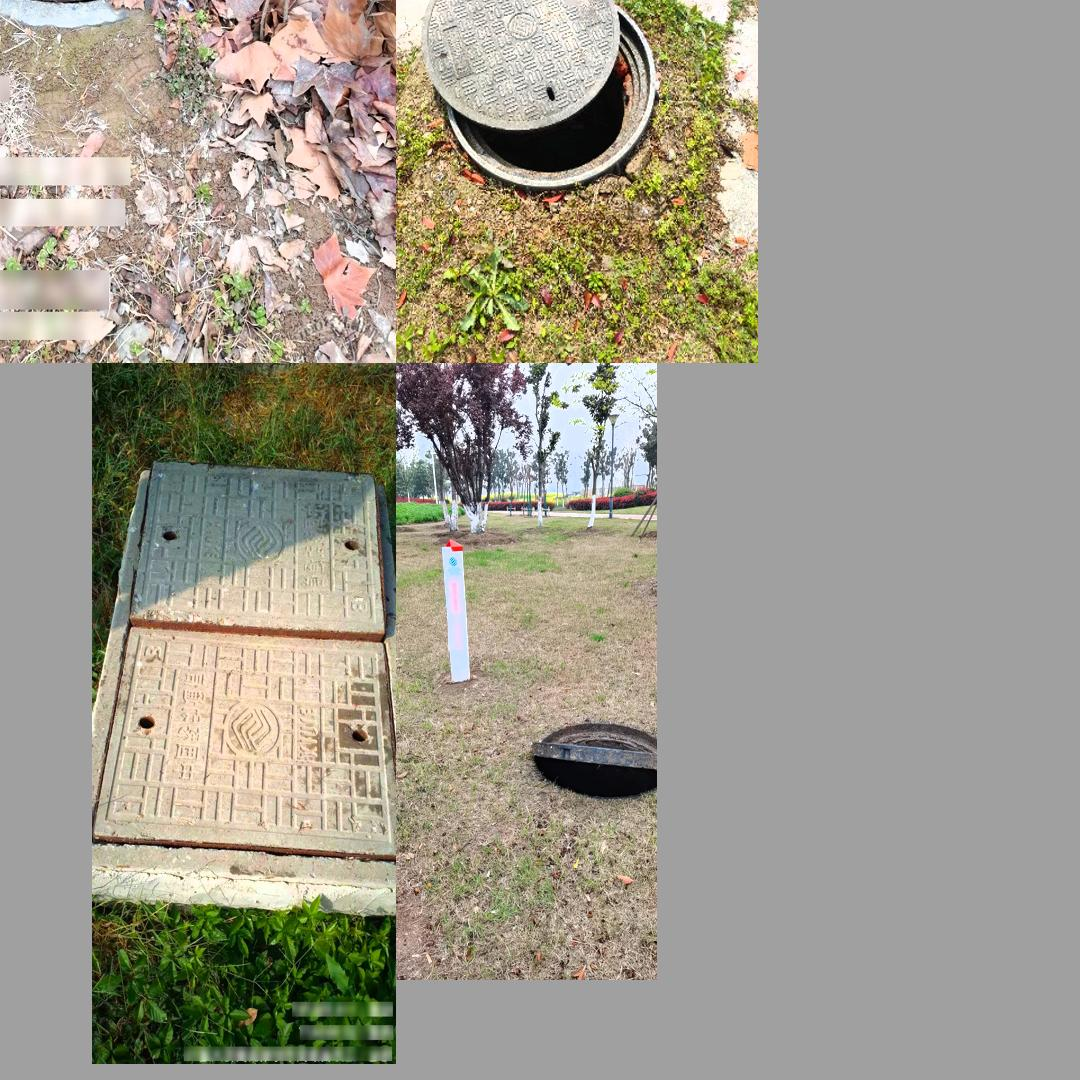uncovered: (92, 459, 395, 911), (419, 0, 654, 187), (534, 722, 657, 799), (0, 0, 237, 7)
